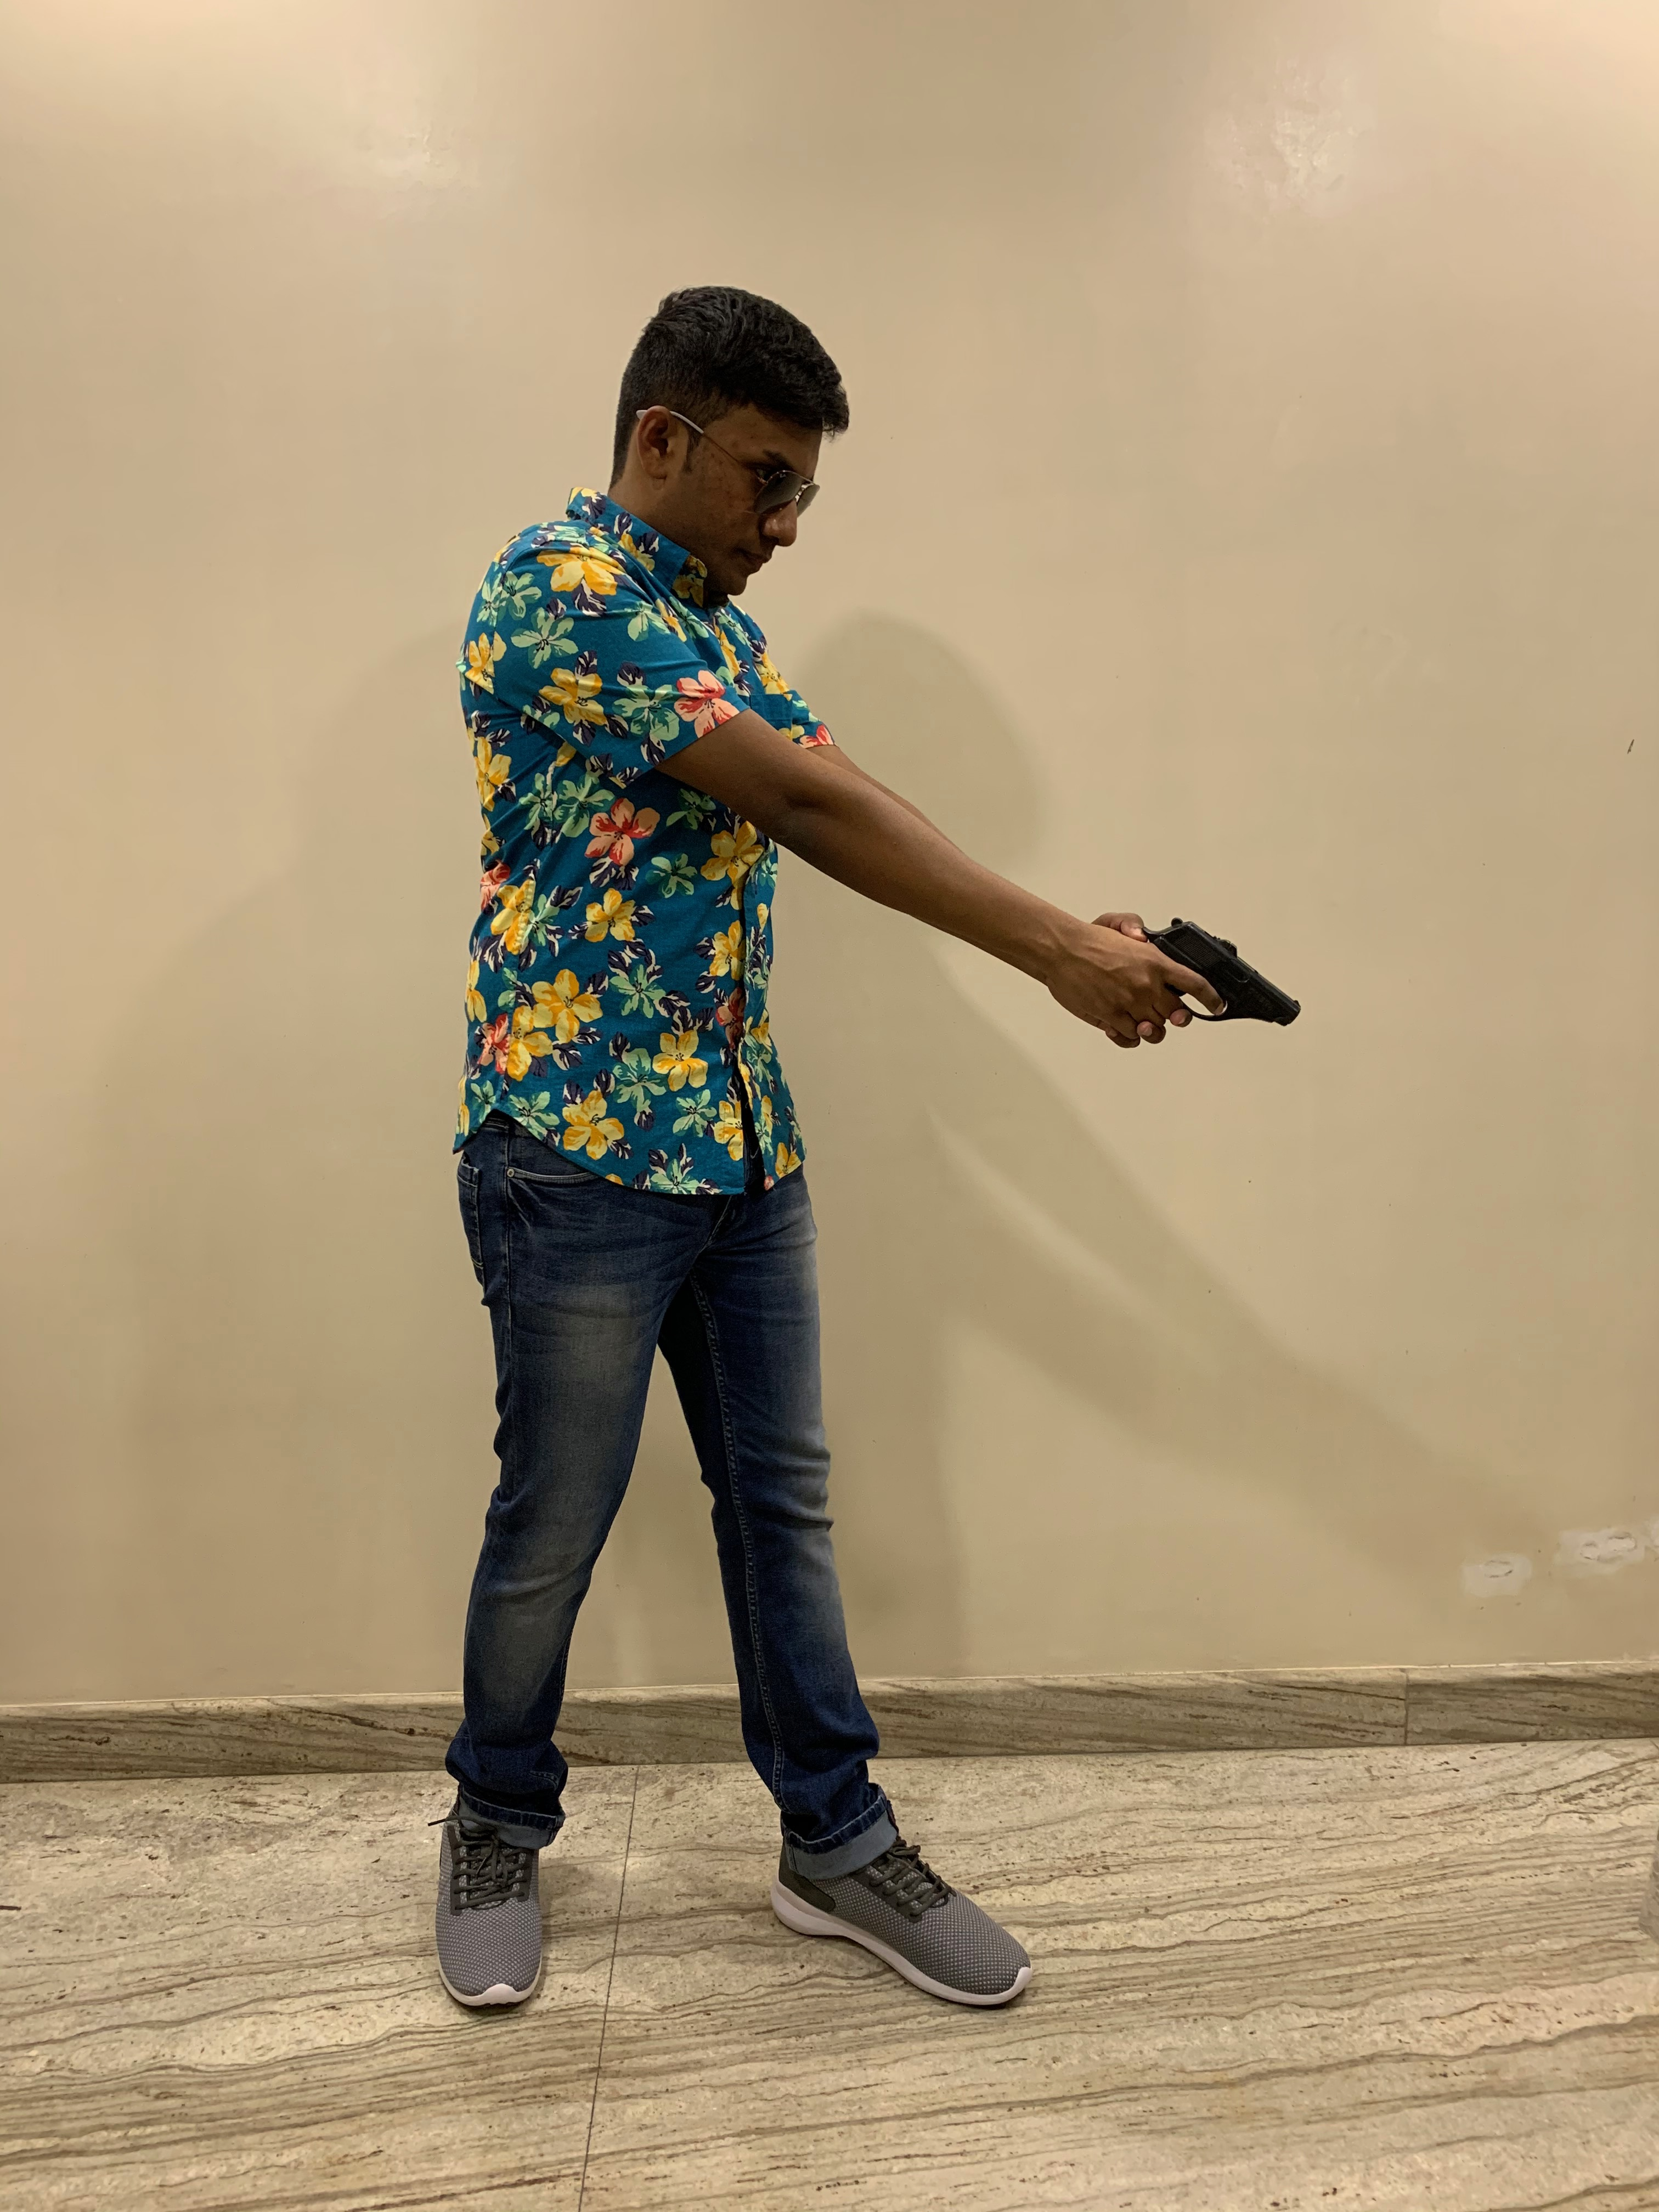gun: (1122, 913, 1307, 1036)
